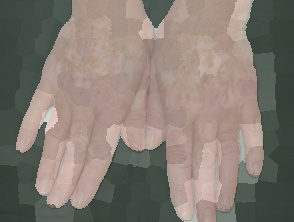vitiligo: (151, 0, 263, 142), (49, 0, 148, 128)
